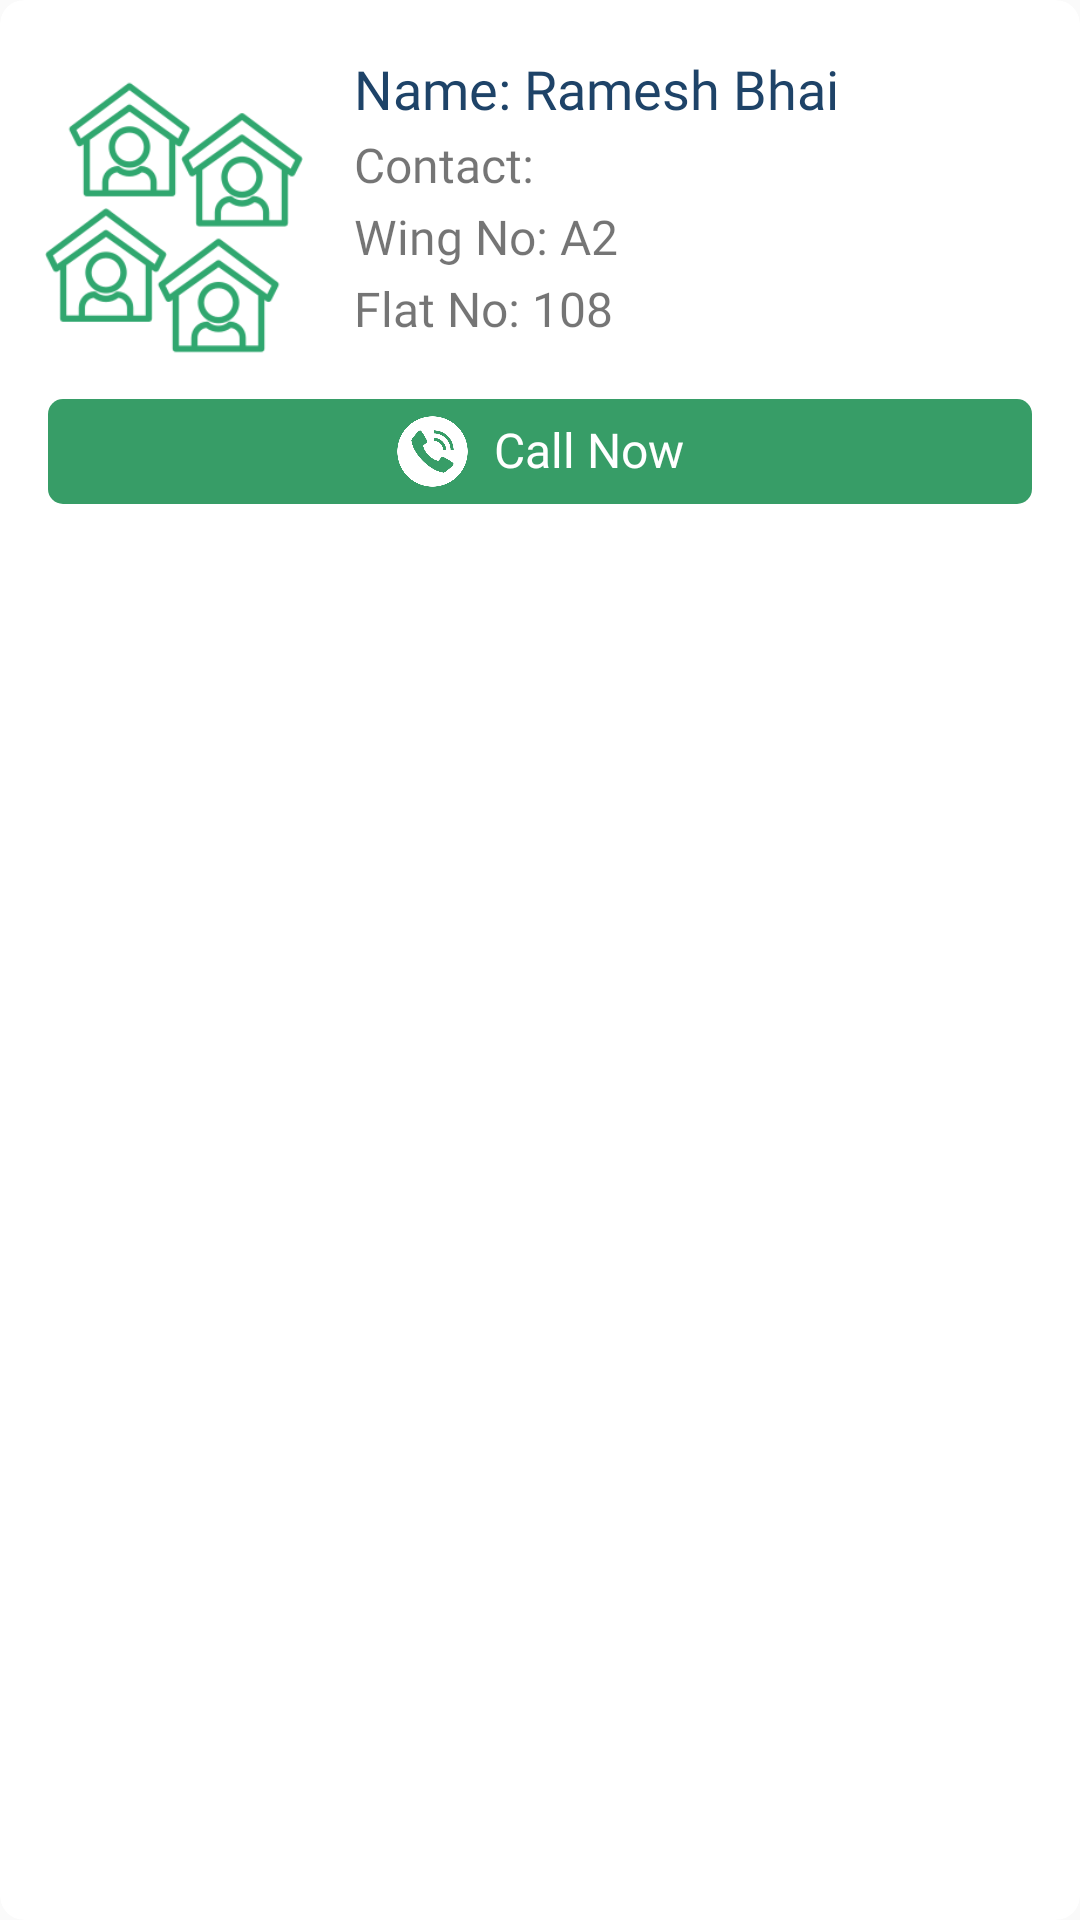

Locate icon controls on the screen. Image size 1080px x 1920px, boxes as (x1, y1, x2, y2).
neigh Icon: (45, 82, 303, 353)
telephone call: (397, 416, 468, 487)
